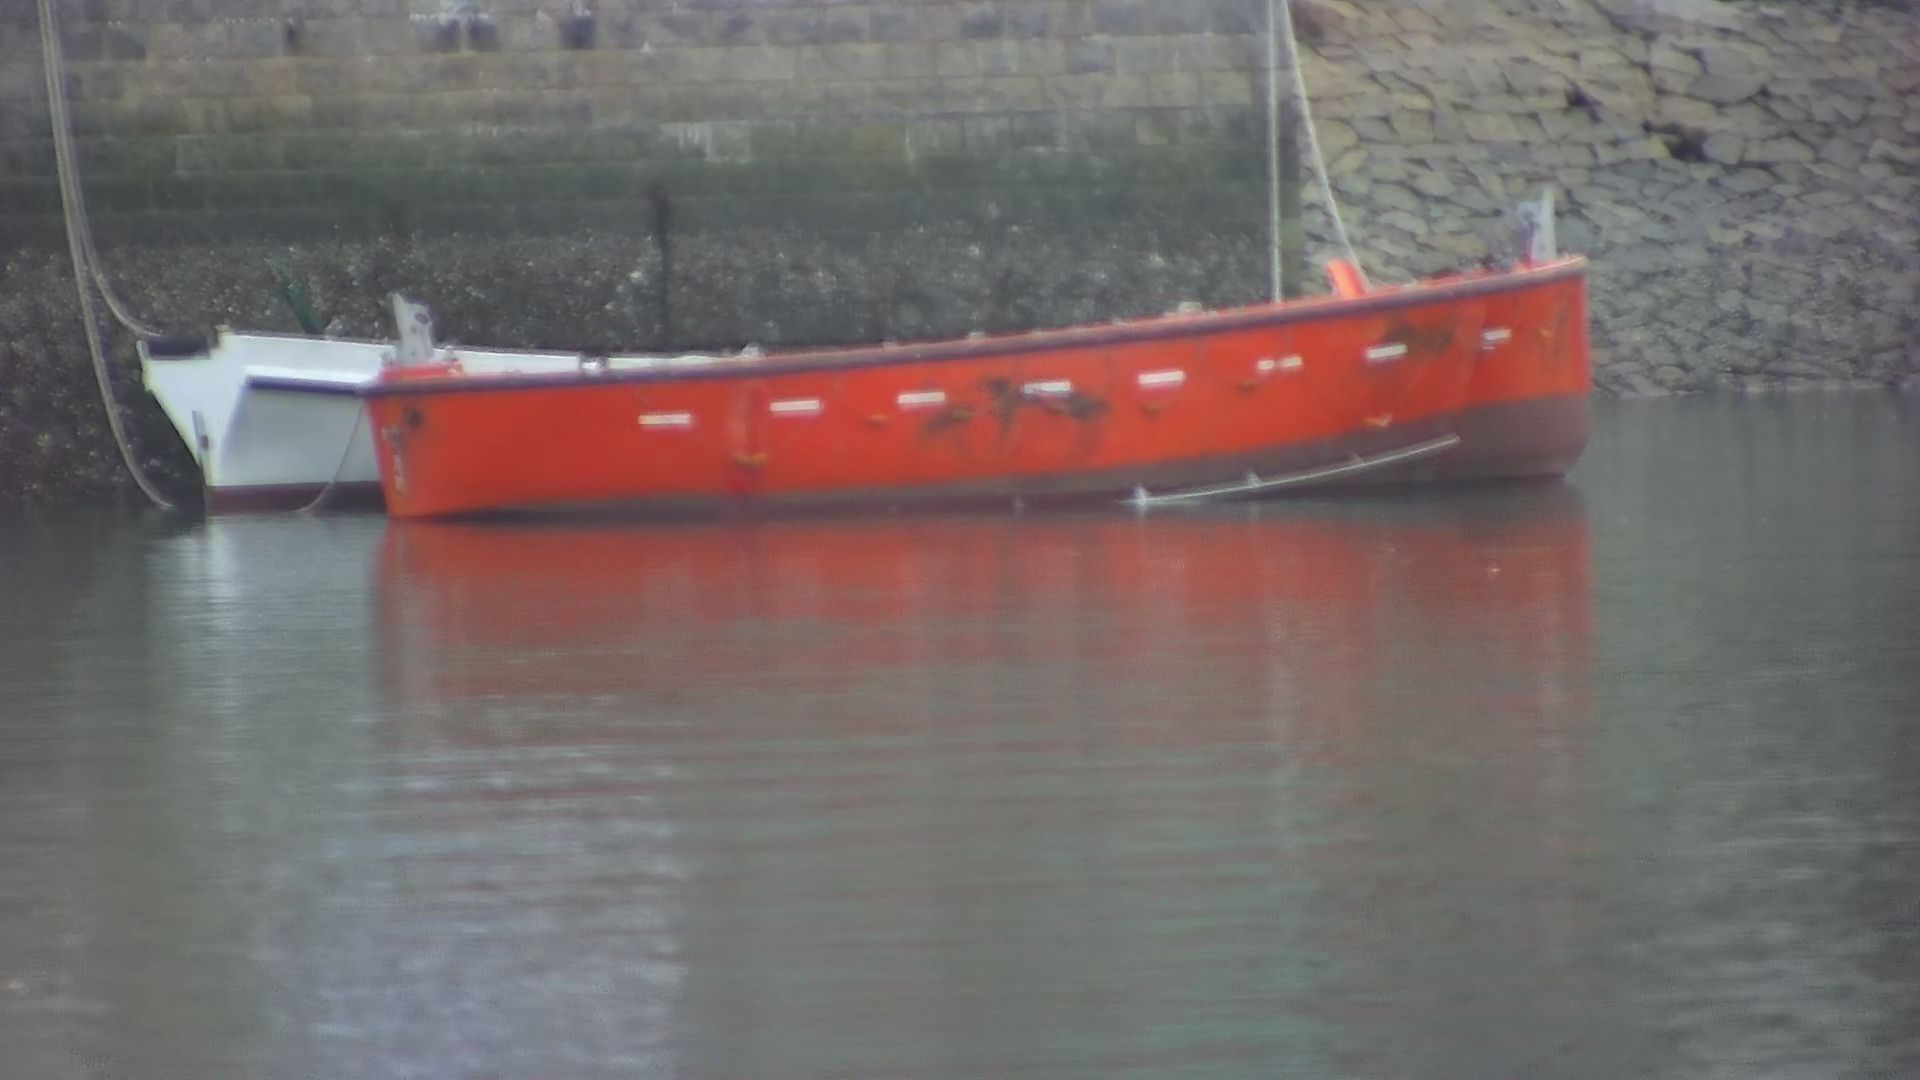boat: (353, 253, 1601, 525)
